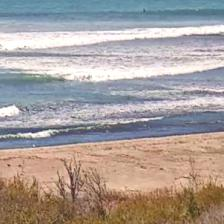surfer: (142, 8, 147, 13)
